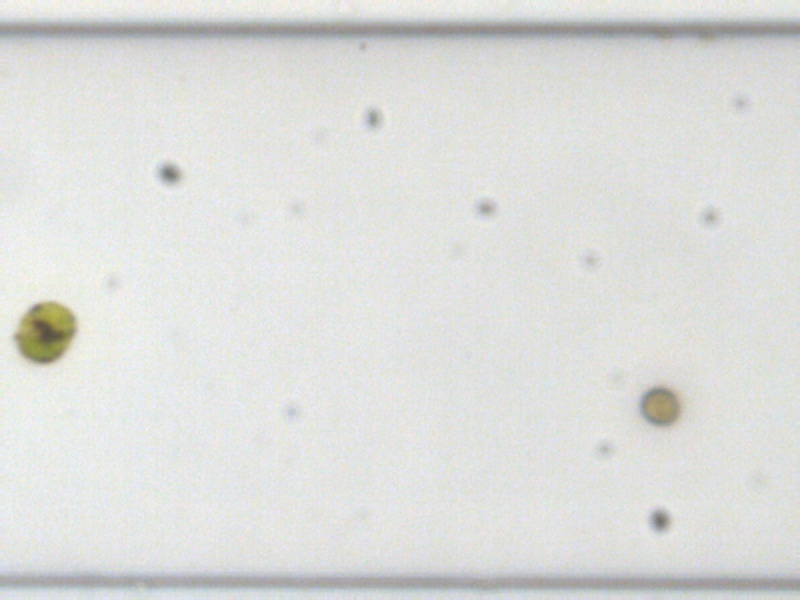Effrenium: (639, 385, 681, 427)
Platymonas: (12, 297, 78, 365)
